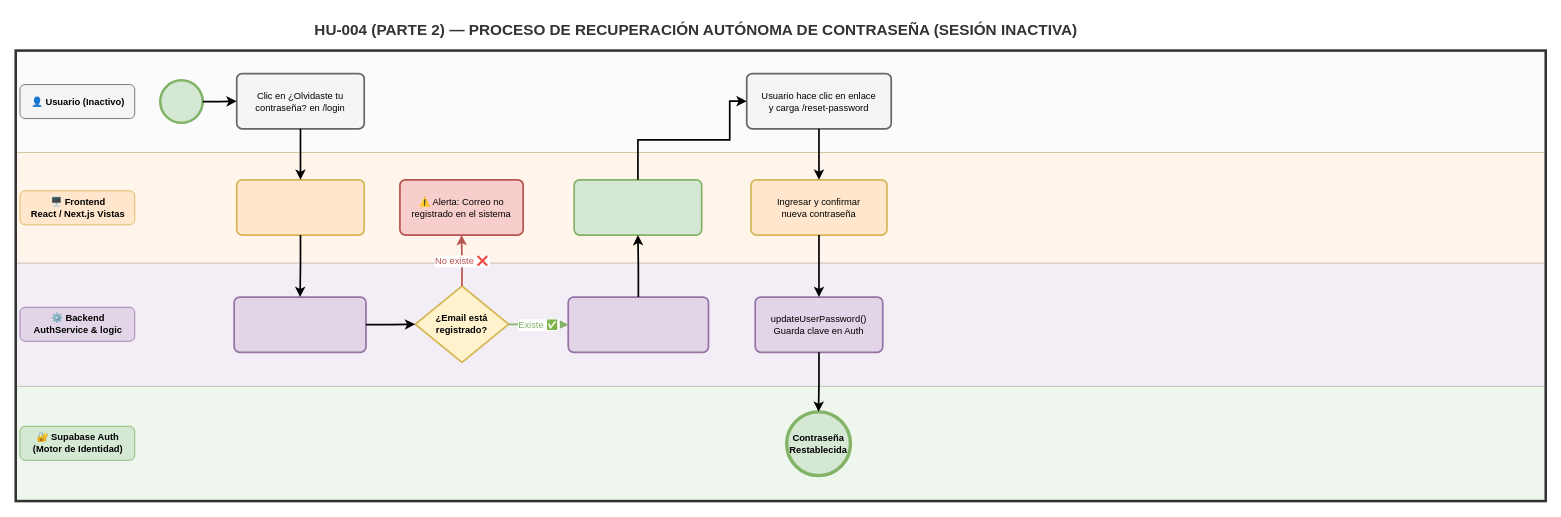
The diagram is 1561 pixels wide and 517 high, and some of its shapes have lost their labels. Each missing label, with the box of its shape:
Ingresar correo en /recuperar: (235, 178, 365, 235)
Inicio: (159, 79, 204, 124)
sendPasswordReset() Valida email & solicita reset: (233, 296, 366, 353)
✉️ Enviar correo con token de restablecimiento: (567, 296, 709, 353)
🎉 Alerta: Enlace enviado a su correo electrónico: (573, 178, 702, 235)
